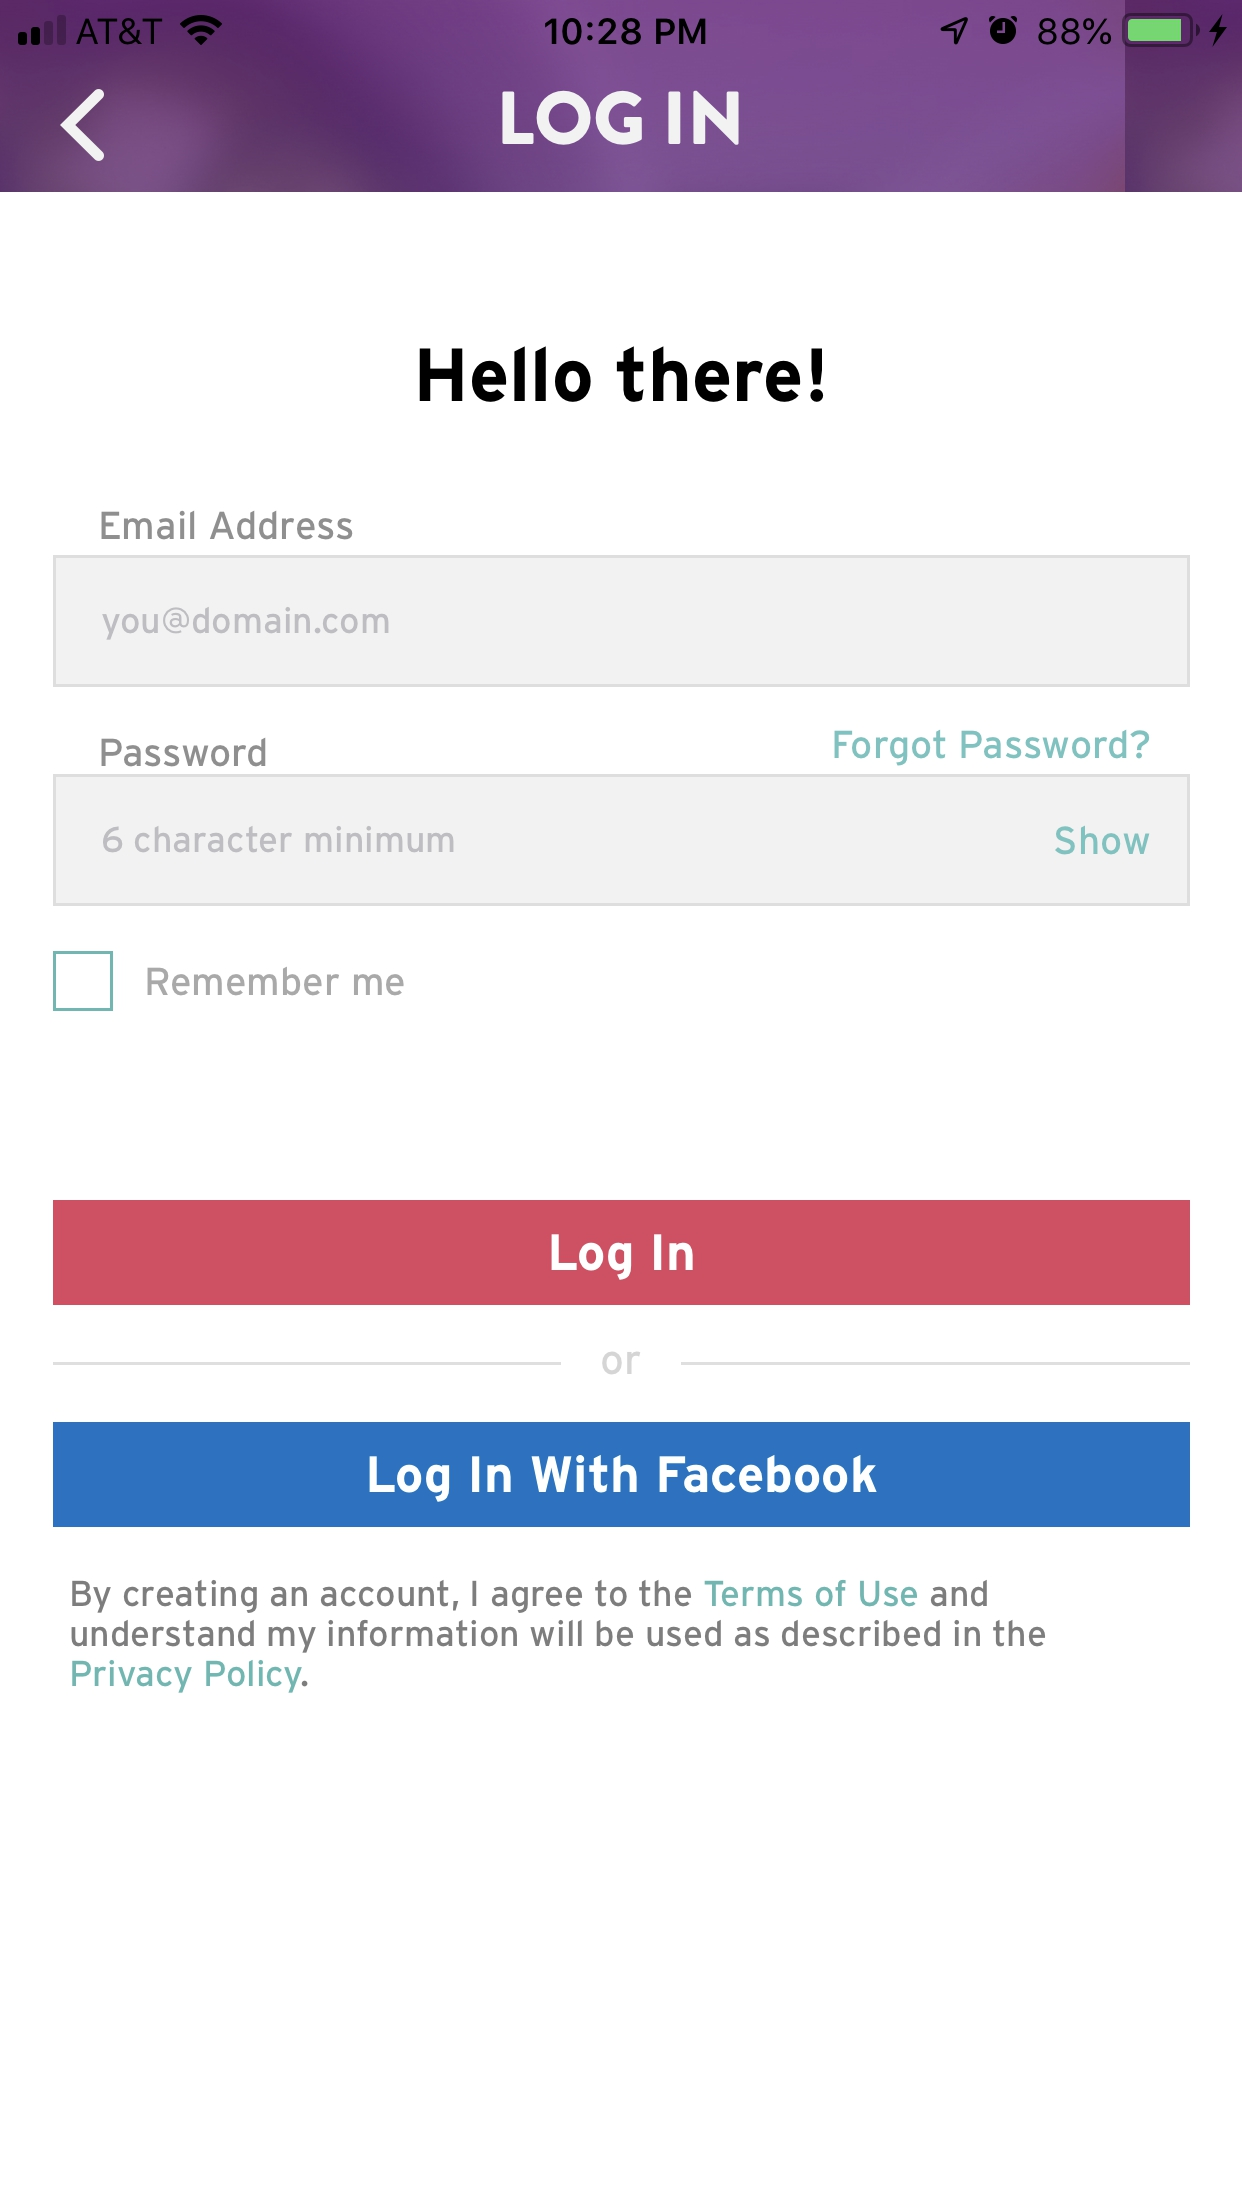CheckedTextView: (55, 951, 405, 1011)
EditText: (55, 775, 1190, 907), (55, 557, 1190, 688)
Icon: (61, 89, 106, 162)
Text: (71, 1580, 1046, 1694), (419, 346, 823, 403), (500, 89, 742, 147), (833, 729, 1149, 767), (103, 607, 390, 641), (105, 826, 455, 854), (102, 511, 353, 541), (149, 968, 405, 996), (102, 737, 267, 767), (1054, 826, 1149, 855), (602, 1353, 641, 1375)
TextButton: (53, 1422, 1190, 1529), (53, 1201, 1190, 1306)
UpperTaskBar: (2, 2, 1242, 49)
